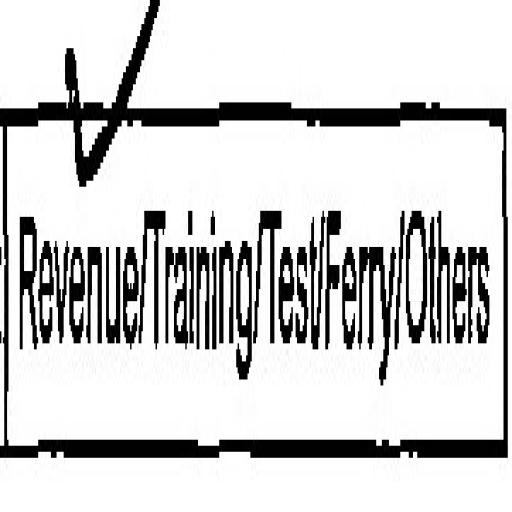check: (0, 4, 142, 512)
